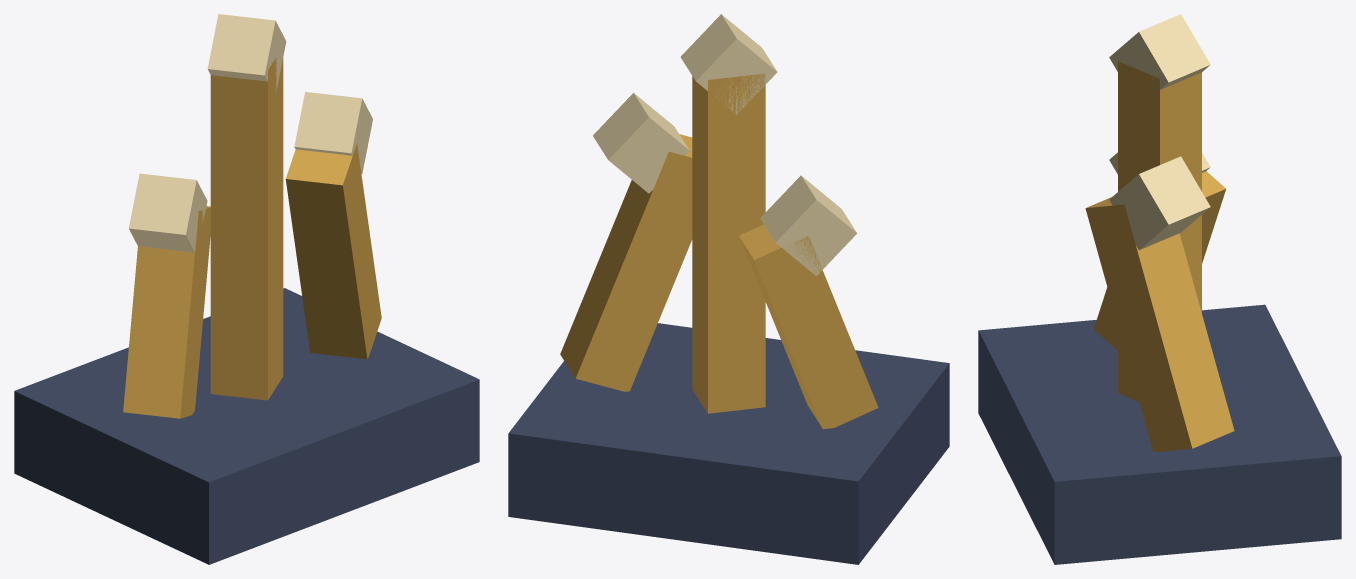
The model's file is IronveilCrystalCluster.glb.
3 renders of one model, left to right at view 1: azimuth 30°, elevation 25°; view 2: azimuth 150°, elevation 25°; view 3: azimuth 270°, elevation 25°, orthographic.
Visible parts, largest first — view 1: IronveilCrystalCluster; view 2: IronveilCrystalCluster; view 3: IronveilCrystalCluster.
Part boxes in pixels (<box>): IronveilCrystalCluster: <box>14,14,479,564</box>; IronveilCrystalCluster: <box>508,14,949,564</box>; IronveilCrystalCluster: <box>978,14,1341,564</box>.
Bounding box in the file's own units: 4.58 × 5.46 × 3.96.
